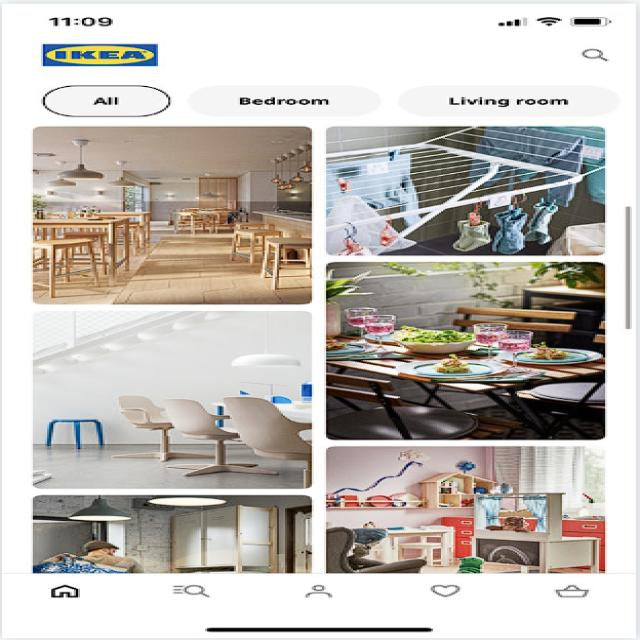button: (399, 82, 631, 121), (191, 81, 387, 122), (30, 78, 178, 122)
column: (1, 111, 323, 573), (334, 112, 628, 572)
icon button: (273, 581, 364, 611), (24, 581, 108, 610), (411, 581, 492, 608), (540, 581, 614, 610), (150, 581, 235, 606), (563, 42, 626, 69)
image: (12, 119, 331, 308), (18, 310, 317, 493), (320, 257, 612, 441), (317, 119, 624, 259), (320, 442, 617, 574), (16, 490, 314, 573)
view: (39, 35, 202, 73)
